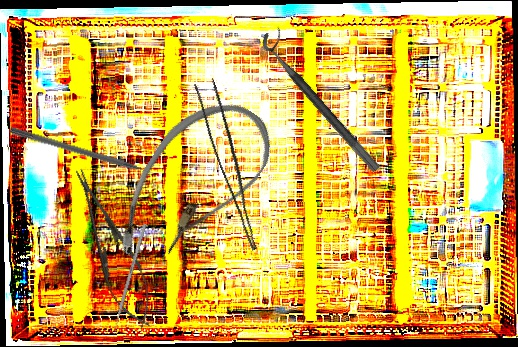Cannula: (100, 79, 286, 292)
Fixation Ring: (257, 24, 392, 174)
Needle Holder: (60, 160, 165, 336)
Pusher: (9, 126, 162, 181), (110, 223, 147, 339)
Tissue Forceps: (189, 77, 276, 251)
